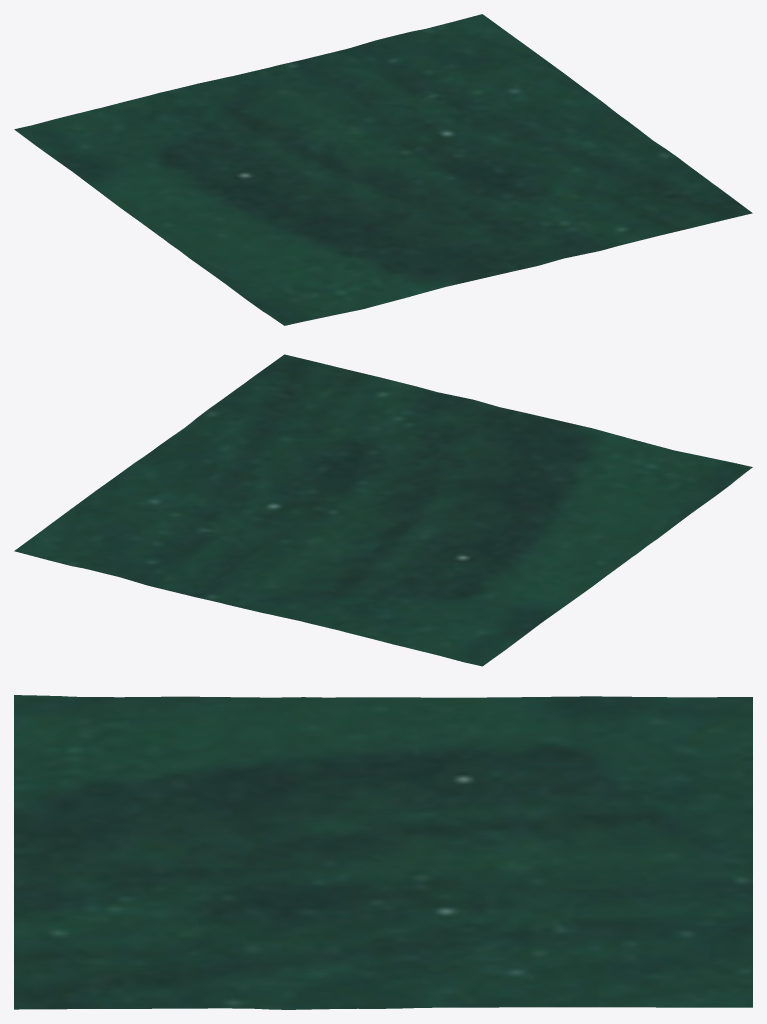
3 views of the same model, one above another, from view 1: azimuth 30°, elevation 25°; view 2: azimuth 150°, elevation 25°; view 3: azimuth 270°, elevation 25° (orthographic). The views are drawn at different scales.
Size of the model in its own units: 52.22 by 0.4833 by 52.22.
2 materials, 2 textured.
